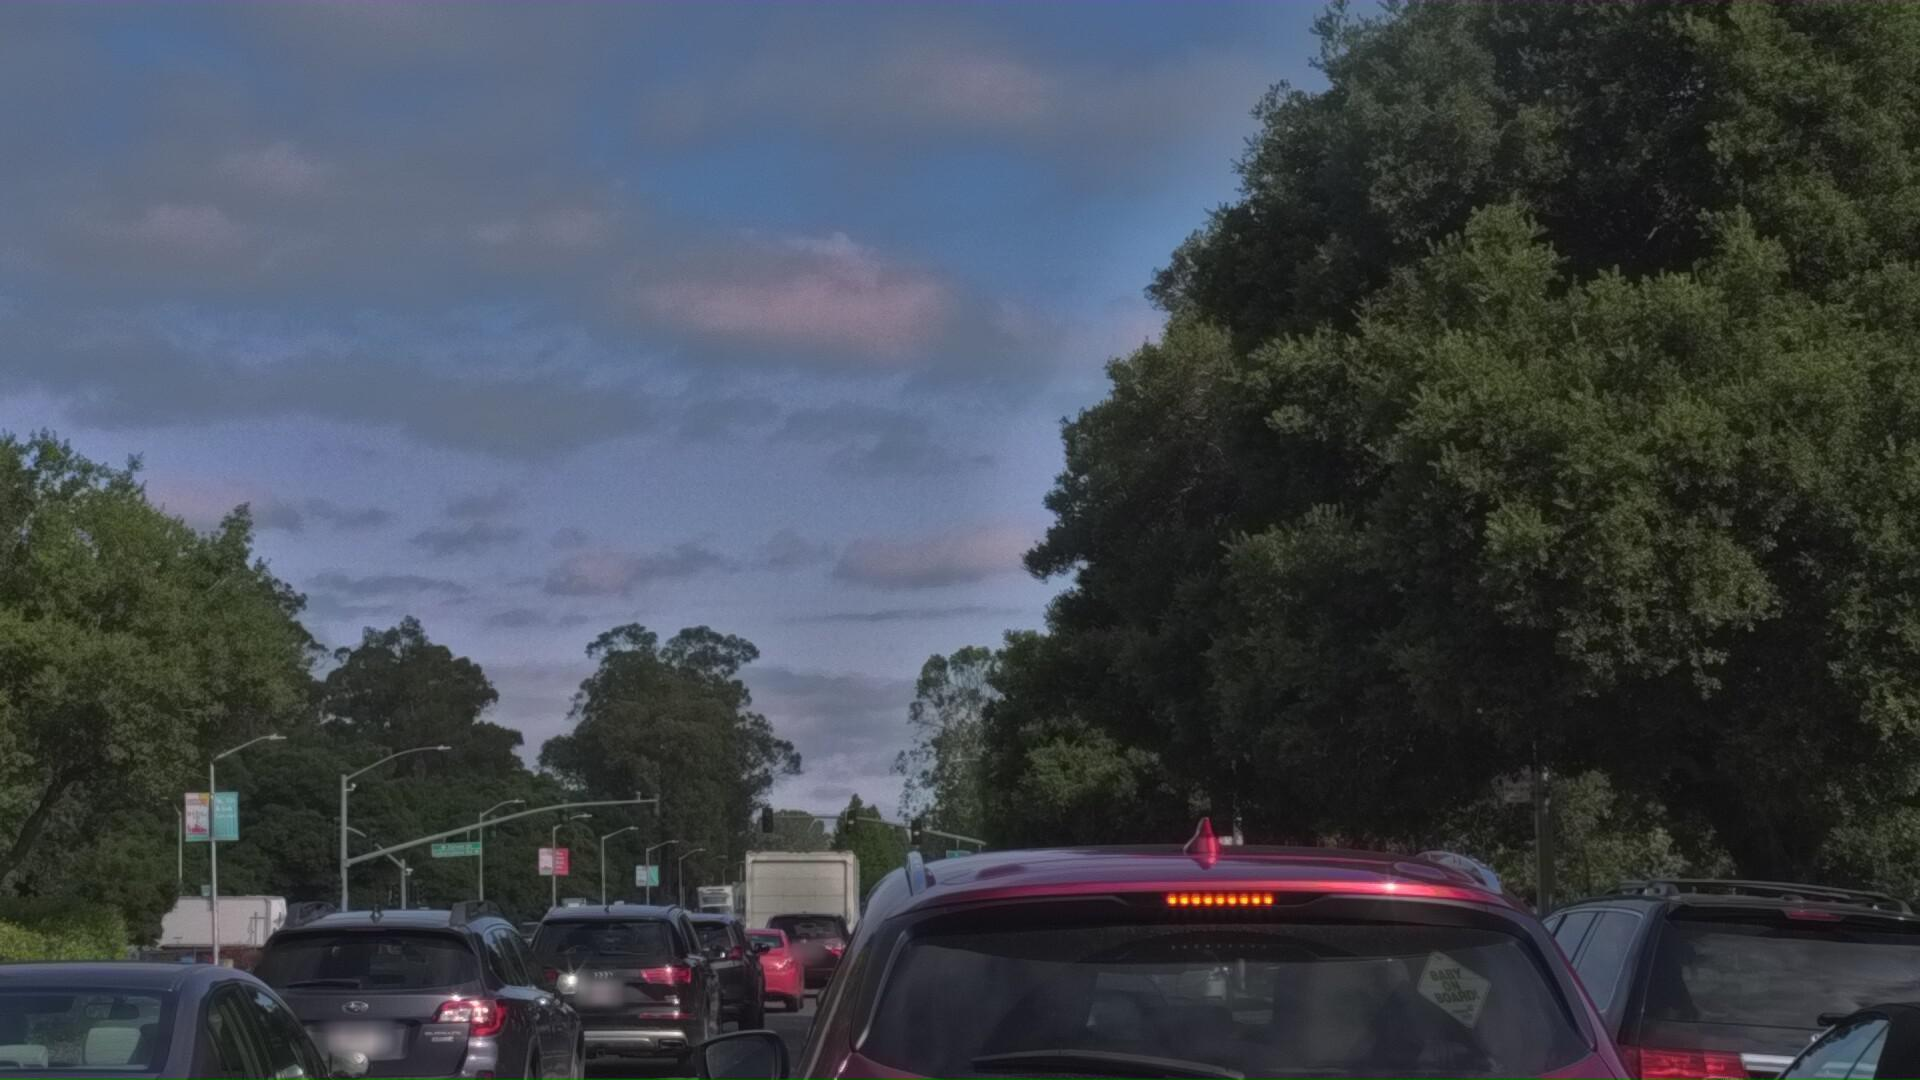car: (571, 775, 1920, 1080), (1396, 901, 1920, 1080), (167, 978, 605, 1080), (1242, 961, 1597, 1080), (0, 989, 410, 1080), (785, 1033, 1323, 1080), (804, 985, 1051, 1080), (793, 1022, 1160, 1080), (1609, 1013, 1920, 1080), (502, 996, 748, 1080), (607, 1015, 786, 1080), (694, 1023, 829, 1080), (752, 1015, 865, 1080)
truck: (733, 948, 864, 1034)
